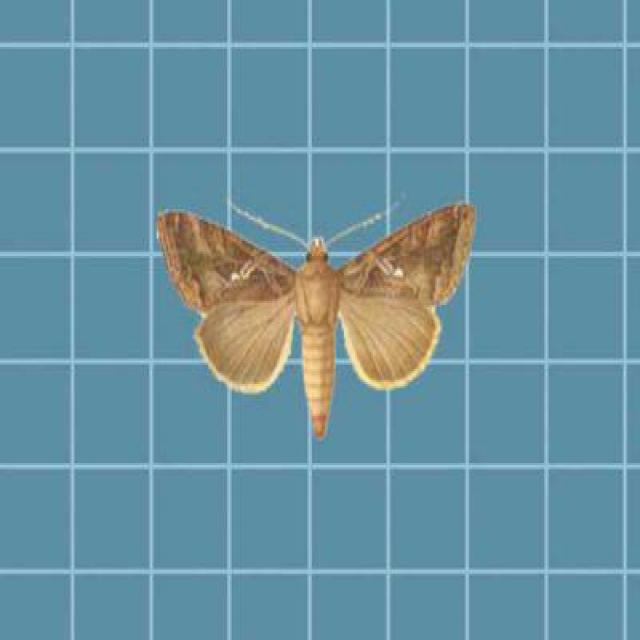BeetArmyWorm-Adult-: (143, 185, 483, 451)
